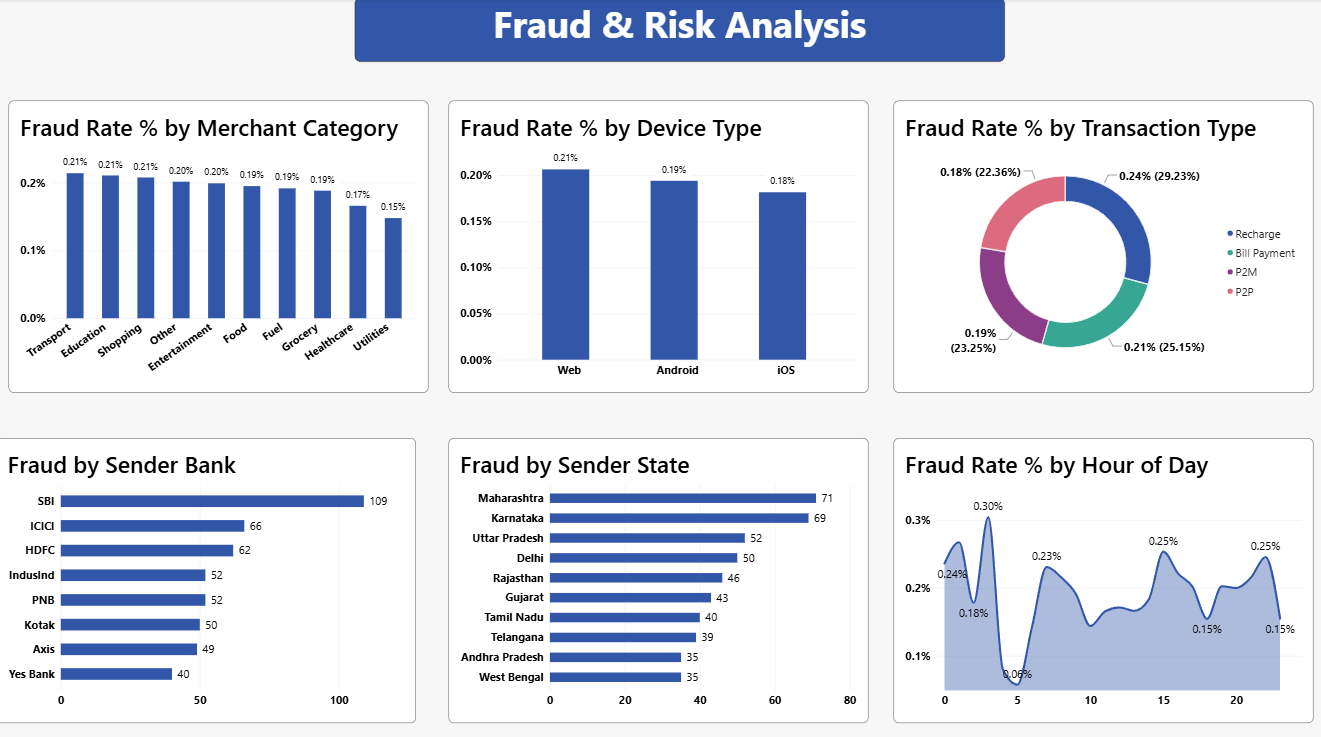

Layout of this report page (visuals, bound fields, positions):
{"tool":"powerbi","page":{"name":"Page 2","canvas":[1920,1080],"ordinal":1},"visuals":[{"type":"columnChart","title":"Fraud Rate % by Merchant Category","fields":{"Category":["paytm_db paytm_transaction.merchant_category"],"Y":["paytm_db paytm_transaction.Fraude Rate %"]},"box":[18.1,148.4,608,423.5],"z":0},{"type":"columnChart","title":"Fraud Rate % by Device Type","fields":{"Category":["paytm_db paytm_transaction.device_type"],"Y":["paytm_db paytm_transaction.Fraude Rate %"]},"box":[655.1,148.4,608,423.5],"z":1000},{"type":"areaChart","title":"Fraud Rate % by Hour of Day","fields":{"Category":["paytm_db paytm_transaction.hour_of_day"],"Y":["paytm_db paytm_transaction.Fraude Rate %"]},"box":[1299.3,637,608,412.6],"z":2000},{"type":"donutChart","title":"Fraud Rate % by Transaction Type","fields":{"Category":["paytm_db paytm_transaction.transaction type"],"Y":["paytm_db paytm_transaction.Fraude Rate %"]},"box":[1299.3,148.4,608,423.5],"z":3000},{"type":"barChart","title":"Fraud by Sender Bank","fields":{"Category":["paytm_db paytm_transaction.sender_bank"],"Y":["Sum(paytm_db paytm_transaction.fraud_flag)"]},"box":[0,637,608,412.6],"z":4000},{"type":"textbox","box":[519.4,0,941,92.3],"z":5001},{"type":"clusteredBarChart","title":"Fraud by Sender State","fields":{"Category":["paytm_db paytm_transaction.sender_state"],"Y":["Sum(paytm_db paytm_transaction.fraud_flag)"]},"box":[655.1,637,608,412.6],"z":5002}]}

Visuals, with their boxes in screenshot pixels (x1, y1, x2, y2), scaled from the page's 1920x1080 canvas onto the 1321x737 screenshot:
"Fraud Rate % by Merchant Category" columnChart: l=12, t=101, r=431, b=390
"Fraud Rate % by Device Type" columnChart: l=451, t=101, r=869, b=390
"Fraud Rate % by Hour of Day" areaChart: l=894, t=435, r=1312, b=716
"Fraud Rate % by Transaction Type" donutChart: l=894, t=101, r=1312, b=390
"Fraud by Sender Bank" barChart: l=0, t=435, r=418, b=716
textbox: l=357, t=0, r=1005, b=63
"Fraud by Sender State" clusteredBarChart: l=451, t=435, r=869, b=716
